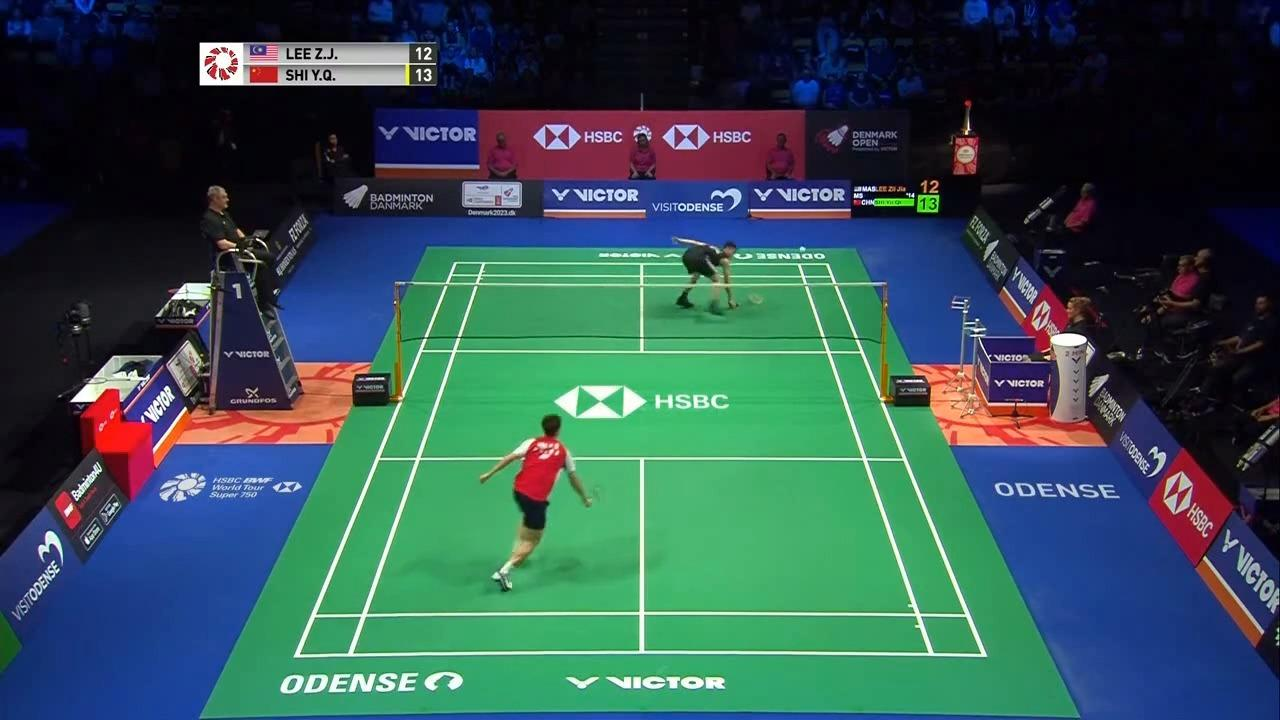shuttle: (797, 243, 810, 254)
